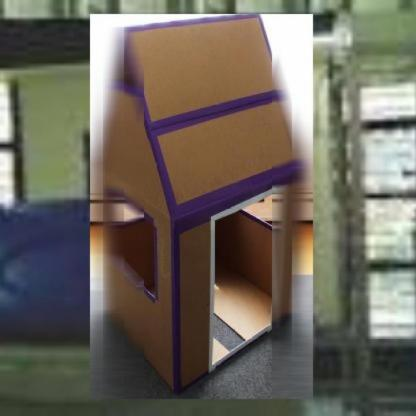box: (87, 9, 317, 405)
